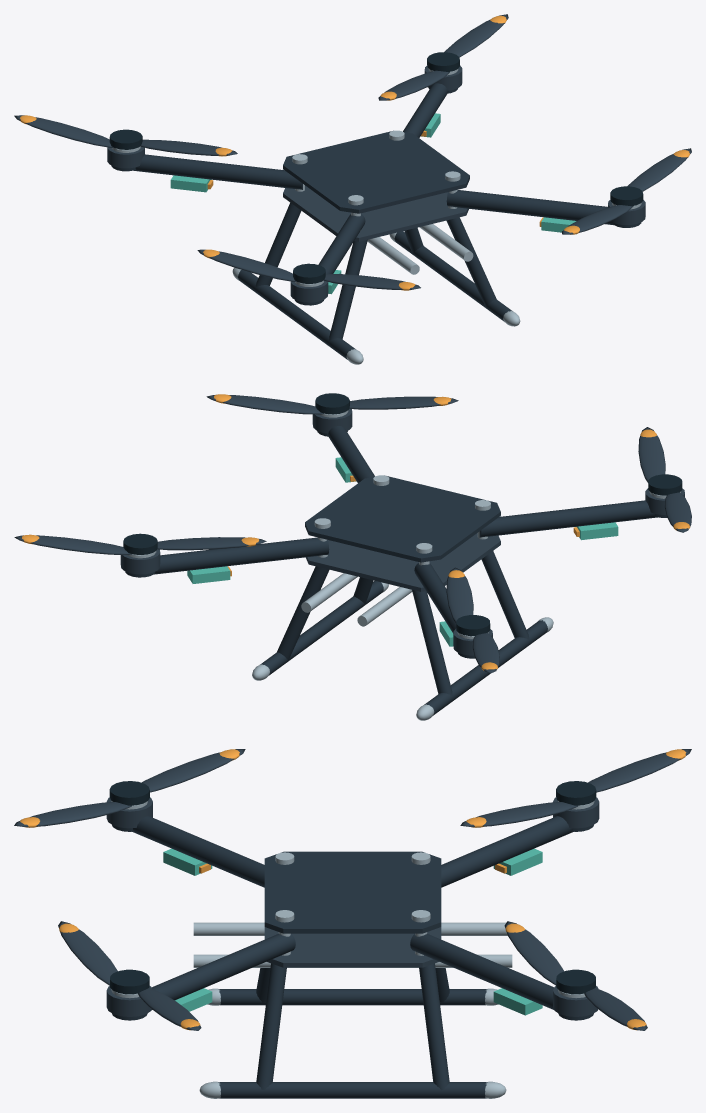
The model's file is holybro-x500-v2.glb.
3 renders of one model, top to bottom at view 1: azimuth 30°, elevation 25°; view 2: azimuth 150°, elevation 25°; view 3: azimuth 270°, elevation 25°, orthographic. The views are drawn at different scales.
Parts seen in each view (by area): view 1: part-frame-1, part-landing-gear-2, part-propeller-6, part-propeller-12, part-propeller-15, part-propeller-9, part-motor-11, part-motor-5, part-esc-4; view 2: part-frame-1, part-landing-gear-2, part-propeller-15, part-propeller-9, part-propeller-12, part-propeller-6, part-motor-8, part-motor-14, part-esc-10, part-esc-7; view 3: part-frame-1, part-landing-gear-2, part-propeller-12, part-propeller-6, part-propeller-15, part-propeller-9, part-motor-14, part-motor-8, part-motor-5, part-motor-11, part-esc-4, part-esc-7 (+1 smaller).
Boxes of the visible parts, left/top/right/bottom form: part-frame-1: left=111, top=83, right=641, bottom=305; part-landing-gear-2: left=232, top=202, right=520, bottom=364; part-propeller-6: left=14, top=115, right=237, bottom=156; part-propeller-12: left=197, top=249, right=420, bottom=290; part-propeller-15: left=561, top=148, right=691, bottom=234; part-propeller-9: left=378, top=14, right=508, bottom=100; part-motor-11: left=290, top=280, right=328, bottom=302; part-motor-5: left=107, top=146, right=144, bottom=168; part-esc-4: left=170, top=175, right=213, bottom=192; part-frame-1: left=125, top=426, right=667, bottom=658; part-landing-gear-2: left=252, top=551, right=553, bottom=720; part-propeller-15: left=206, top=393, right=458, bottom=414; part-propeller-9: left=14, top=533, right=266, bottom=554; part-propeller-12: left=638, top=427, right=691, bottom=532; part-propeller-6: left=446, top=567, right=499, bottom=673; part-motor-8: left=120, top=549, right=160, bottom=574; part-motor-14: left=312, top=409, right=352, bottom=433; part-esc-10: left=573, top=522, right=618, bottom=540; part-esc-7: left=187, top=566, right=231, bottom=583; part-frame-1: left=112, top=816, right=593, bottom=1020; part-landing-gear-2: left=199, top=963, right=506, bottom=1098; part-propeller-12: left=14, top=749, right=245, bottom=827; part-propeller-6: left=460, top=749, right=691, bottom=827; part-propeller-15: left=58, top=921, right=201, bottom=1030; part-propeller-9: left=504, top=921, right=647, bottom=1030; part-motor-14: left=106, top=986, right=151, bottom=1016; part-motor-8: left=553, top=986, right=598, bottom=1016; part-motor-5: left=553, top=797, right=599, bottom=828; part-motor-11: left=106, top=797, right=152, bottom=828; part-esc-4: left=493, top=848, right=542, bottom=875; part-esc-7: left=493, top=988, right=542, bottom=1015.
Bounding box in the file's own units: 4.61 × 1.31 × 4.68.
